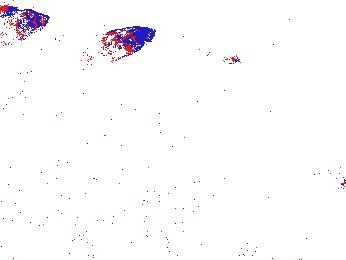X-ray fish: (90, 25, 156, 63), (1, 5, 49, 44)
red belly glassfish: (308, 168, 346, 190), (201, 47, 241, 65)
